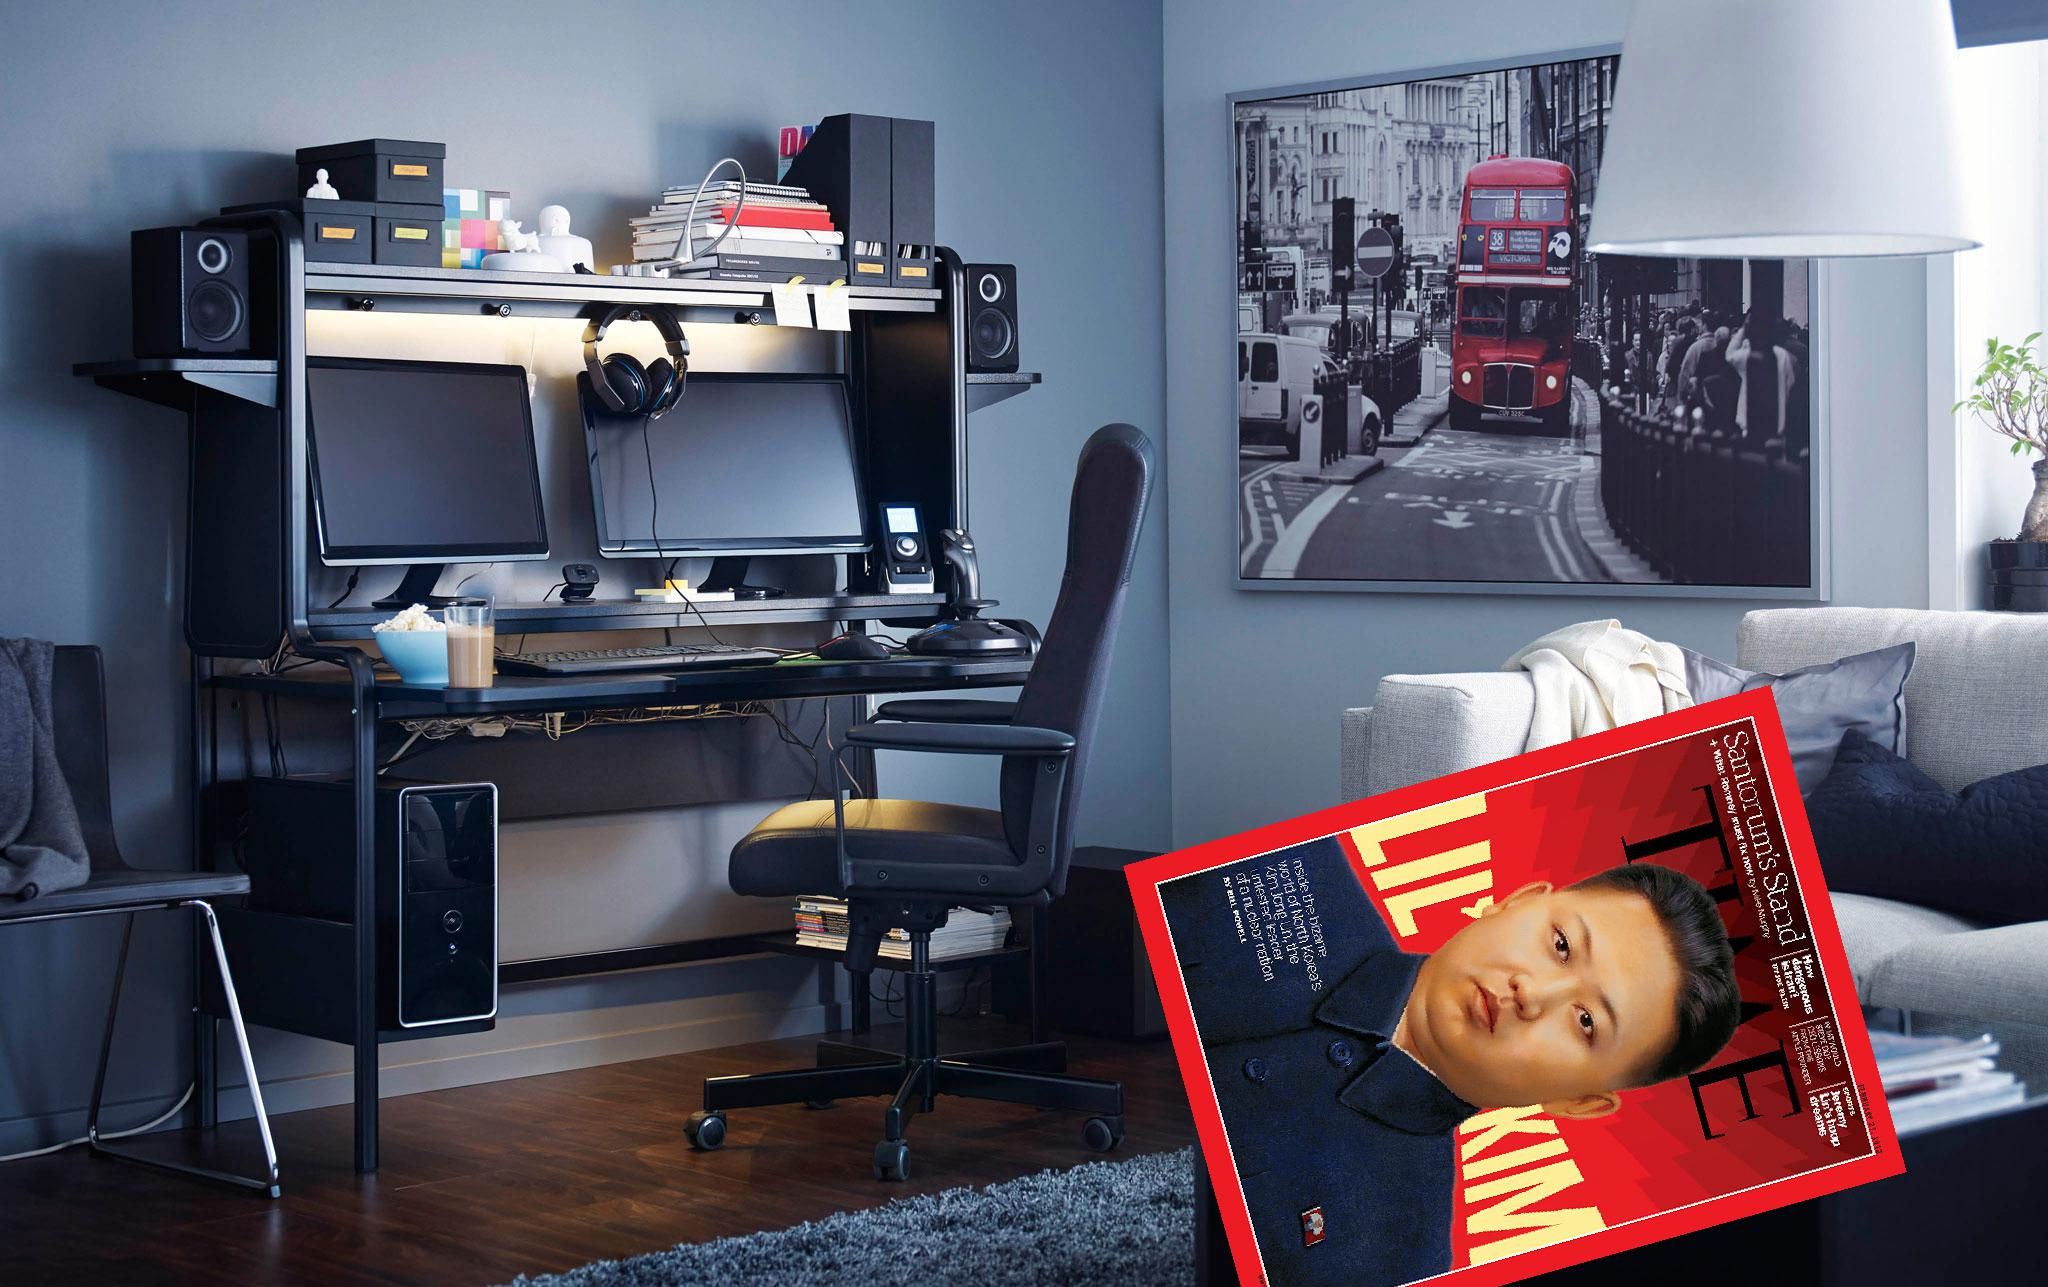times: (1123, 681, 1909, 1287)
